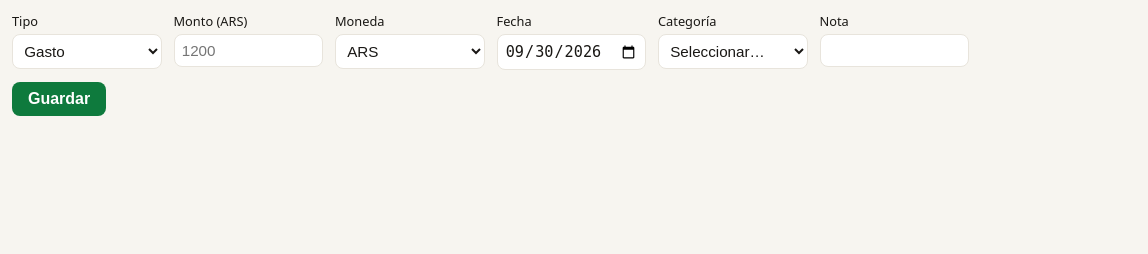
it: TransactionForm › clears the stale rate-required error when the currency changes (P3 #10)
Select "USD" in the dropdown with test id "currency": (410, 52) [335,34,484,69]
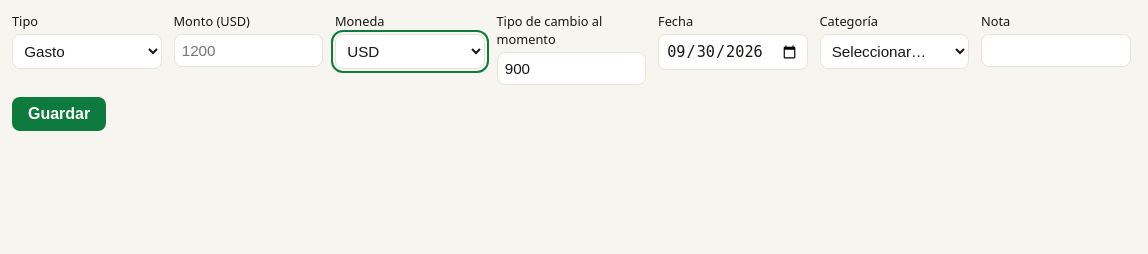
Clear the field with test id "rate": (571, 69) [496,52,646,85]
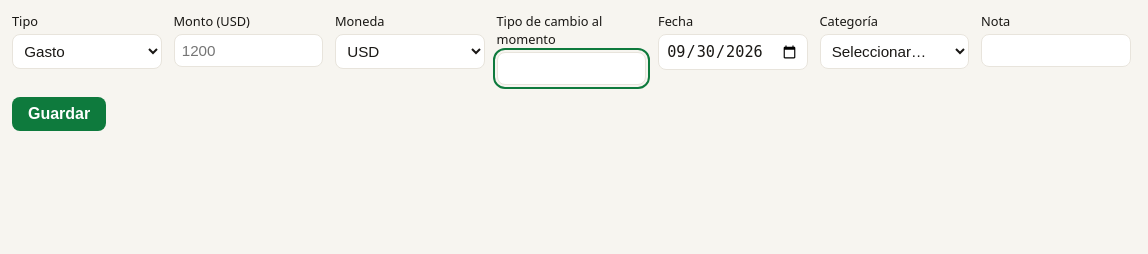
In the field with test id "amount": (248, 51) [174,34,323,67], type "25"
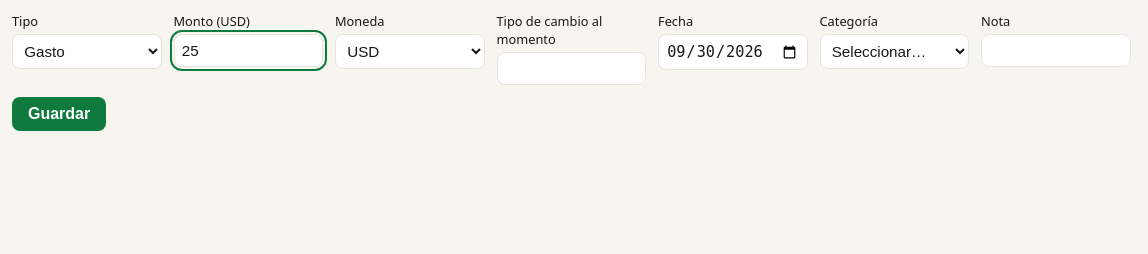
Select "Food" in the dropdown with test id "category": (894, 52) [820,34,969,69]
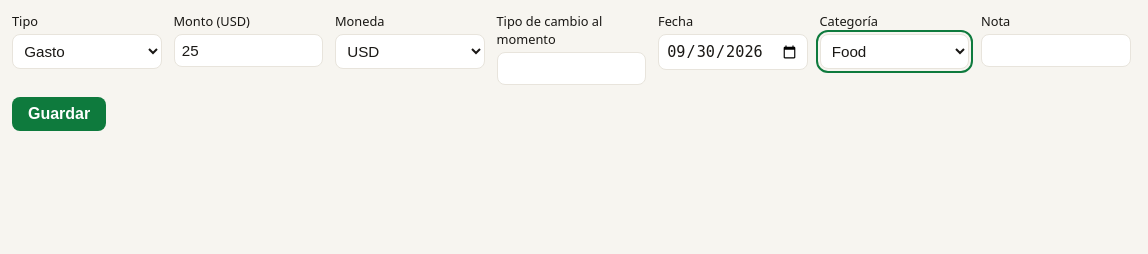
Click the button with test id "submit": click(59, 114) [12,97,106,131]
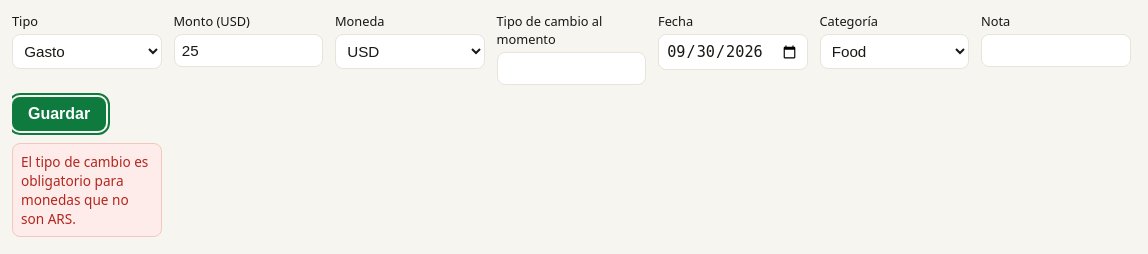
Now the text "El tipo de cambio es obligatorio para monedas que no son ARS." is shown, box [21,152,152,228]
Select "ARS" in the dropdown with test id "currency": (410, 52) [335,34,484,69]
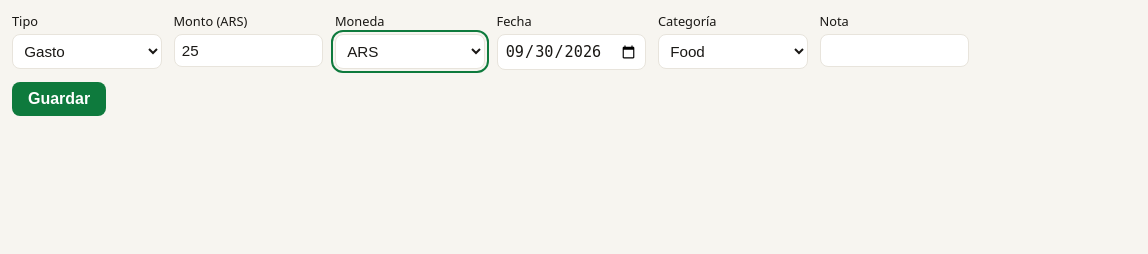
Now the text "El tipo de cambio es obligatorio para monedas que no son ARS." is gone
